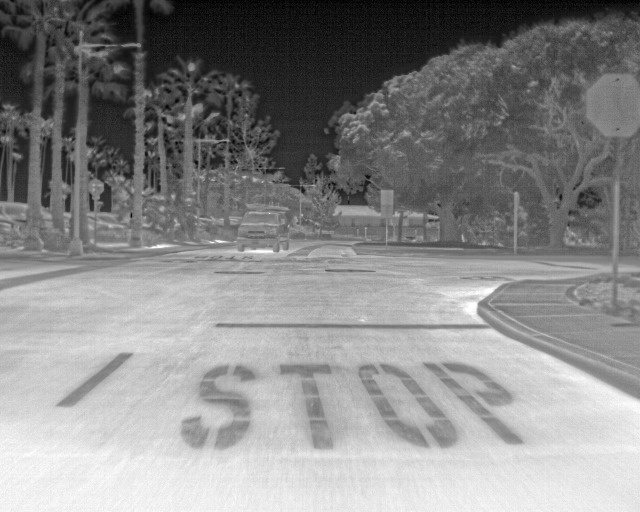vehicle: (239, 210, 289, 256)
